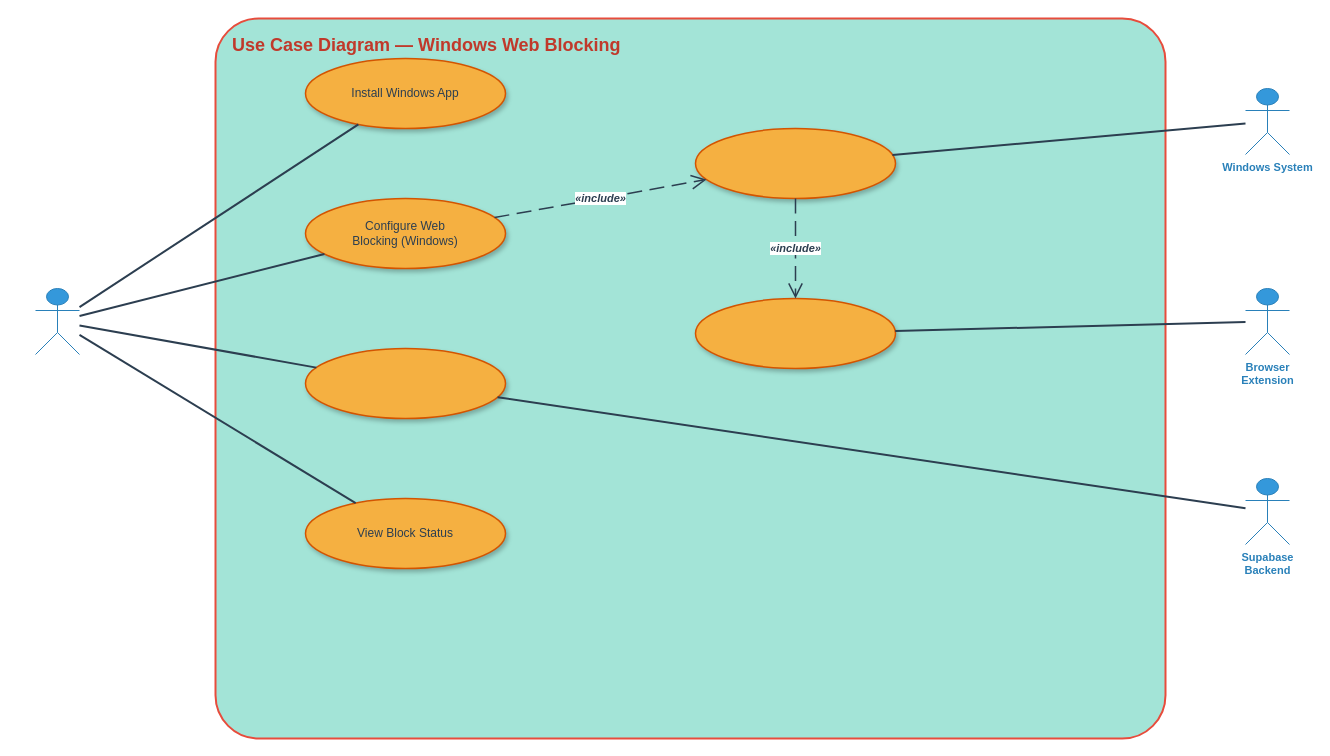
This 1330x756 diagram has some shape labels left out. Each missing label, with the centre of its shape:
Apply HOSTS File Rules: [796,164]
Authenticated User: [57,321]
Display Block Page: [796,334]
Sync with Mobile / Mac: [406,384]
